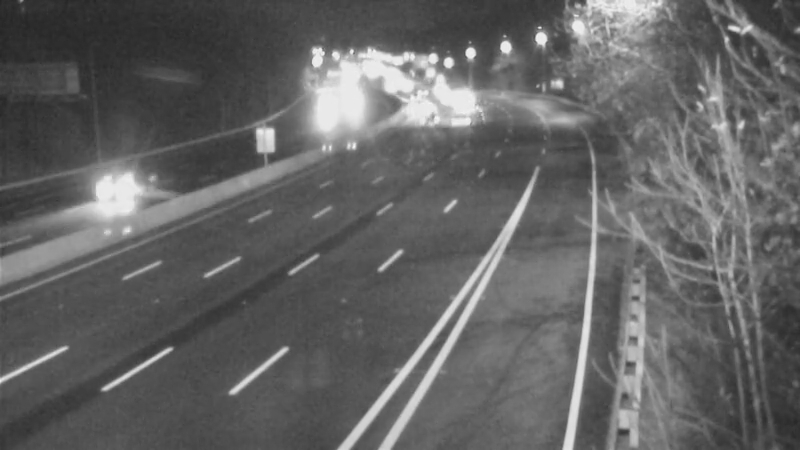vehicle: (73, 151, 153, 231), (412, 62, 462, 112), (397, 68, 447, 118), (443, 86, 493, 136), (388, 82, 438, 132), (433, 95, 483, 145), (395, 97, 445, 147)
